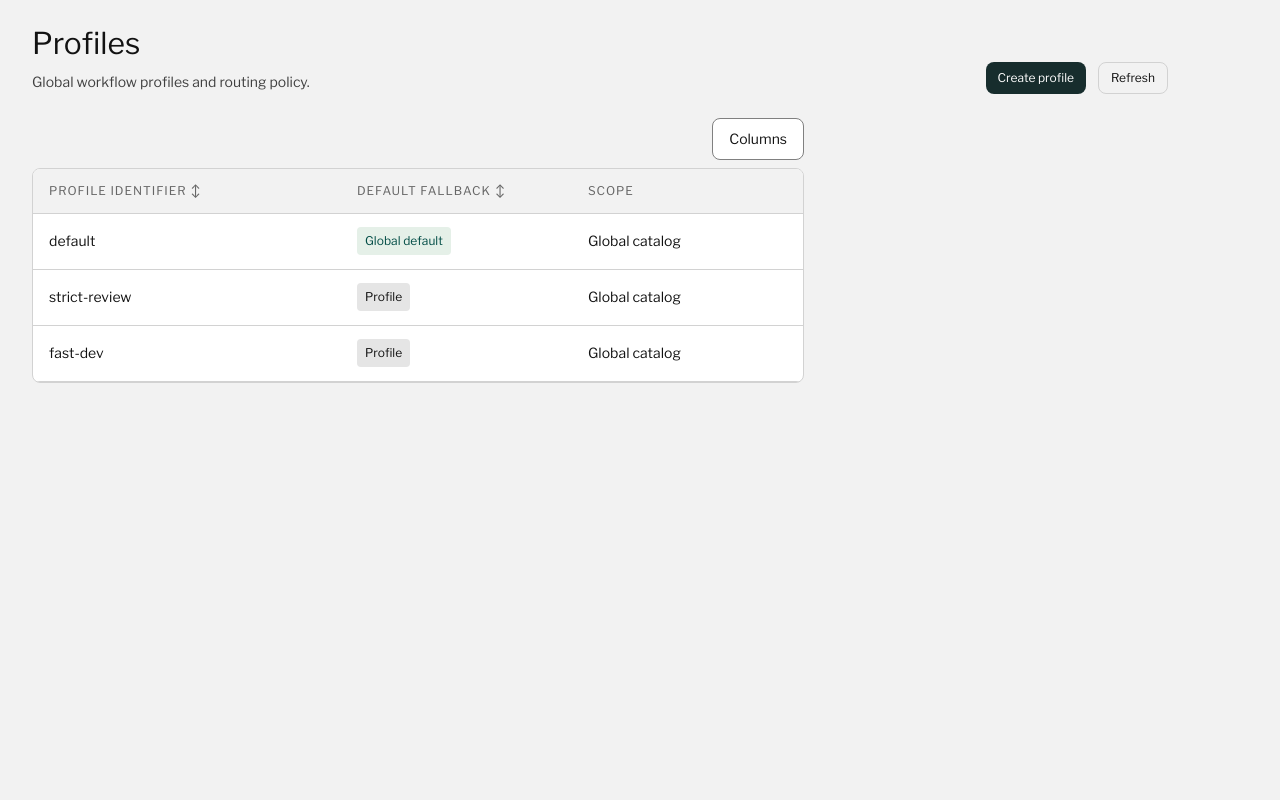
Profiles screen › validates that declared workflows have at least one target before submitting
Expected: the text "default" is shown, x1=49 y1=232 x2=95 y2=249
Click the button "Create profile" at x=1036, y=78, box x1=986 y1=62 x2=1086 y2=94
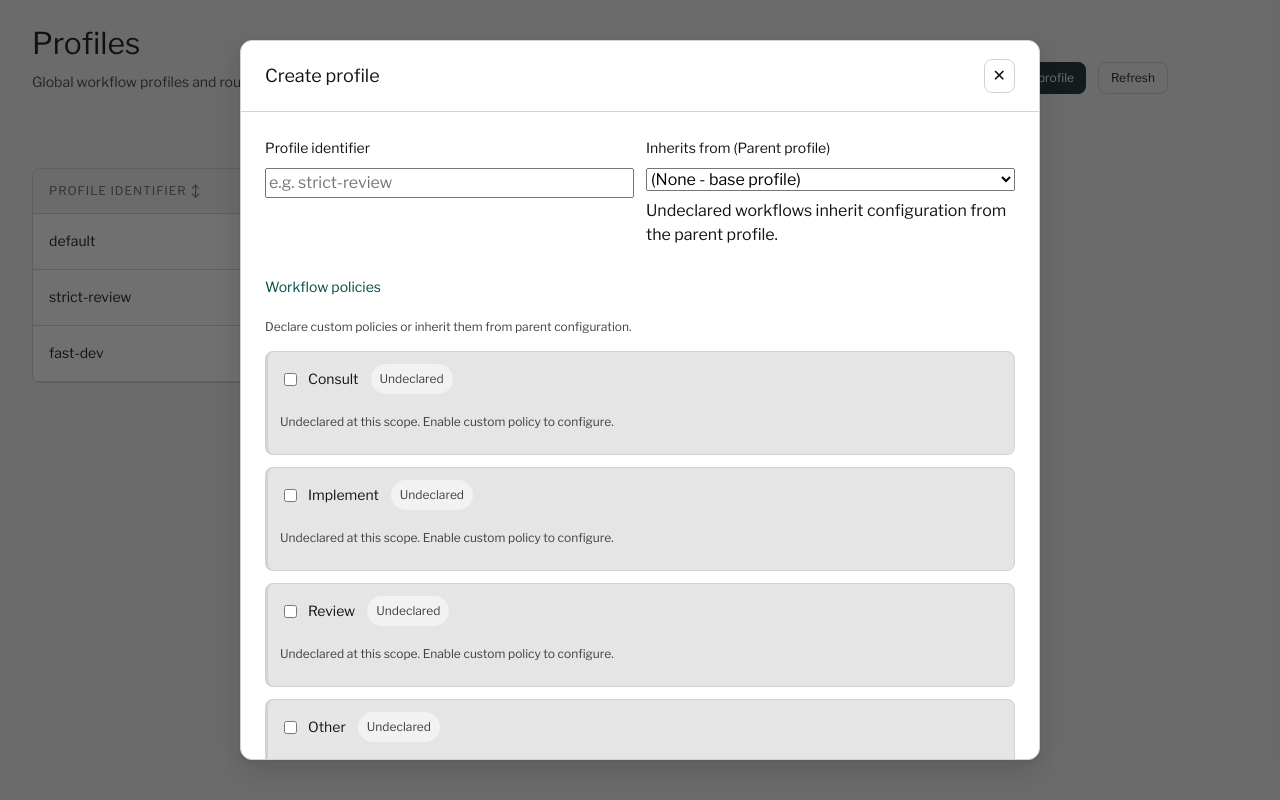
Expected: the dialog "Create profile" is shown, x1=240 y1=40 x2=1040 y2=760
Type "invalid-profile" into the field labelled "Profile identifier" at x=450, y=183, box x1=265 y1=168 x2=634 y2=198
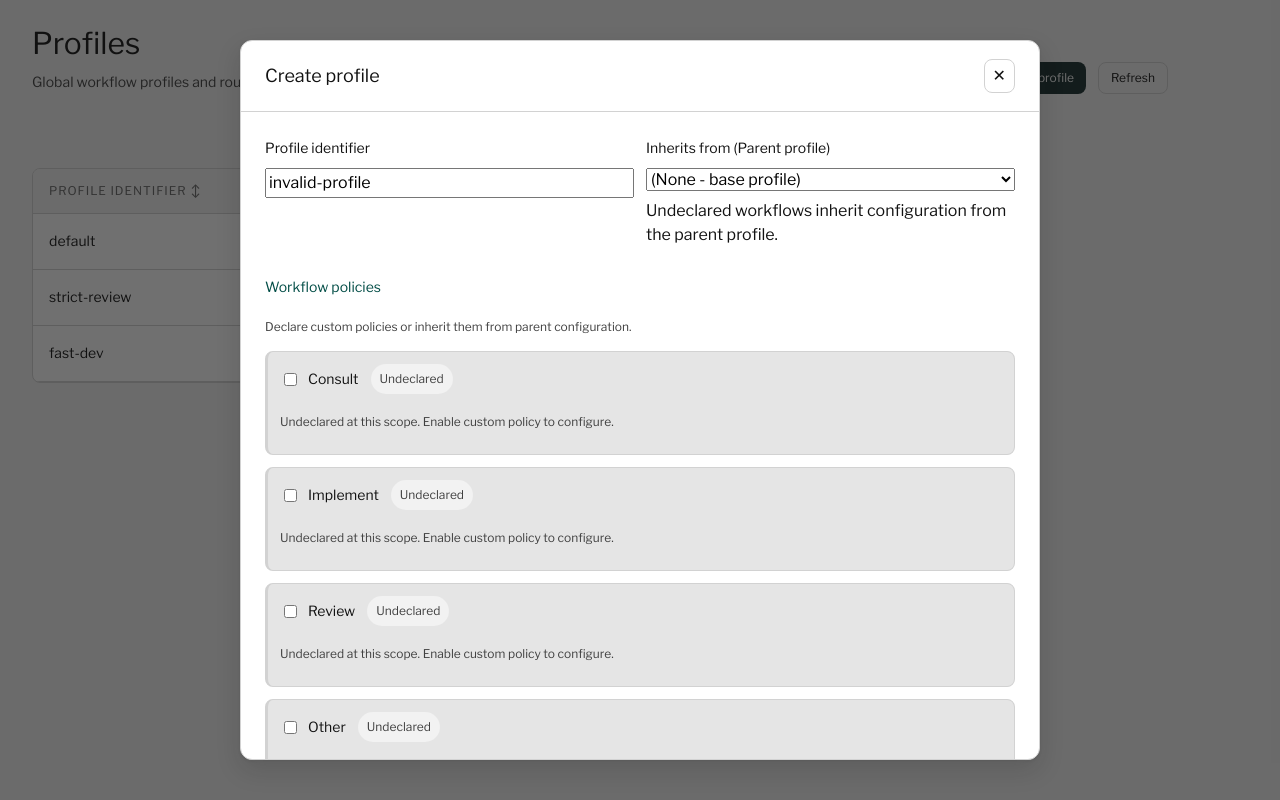
# Declare review workflow
Click the checkbox named "Declare custom policy for review workflow" at x=290, y=611, box x1=284 y1=604 x2=297 y2=618
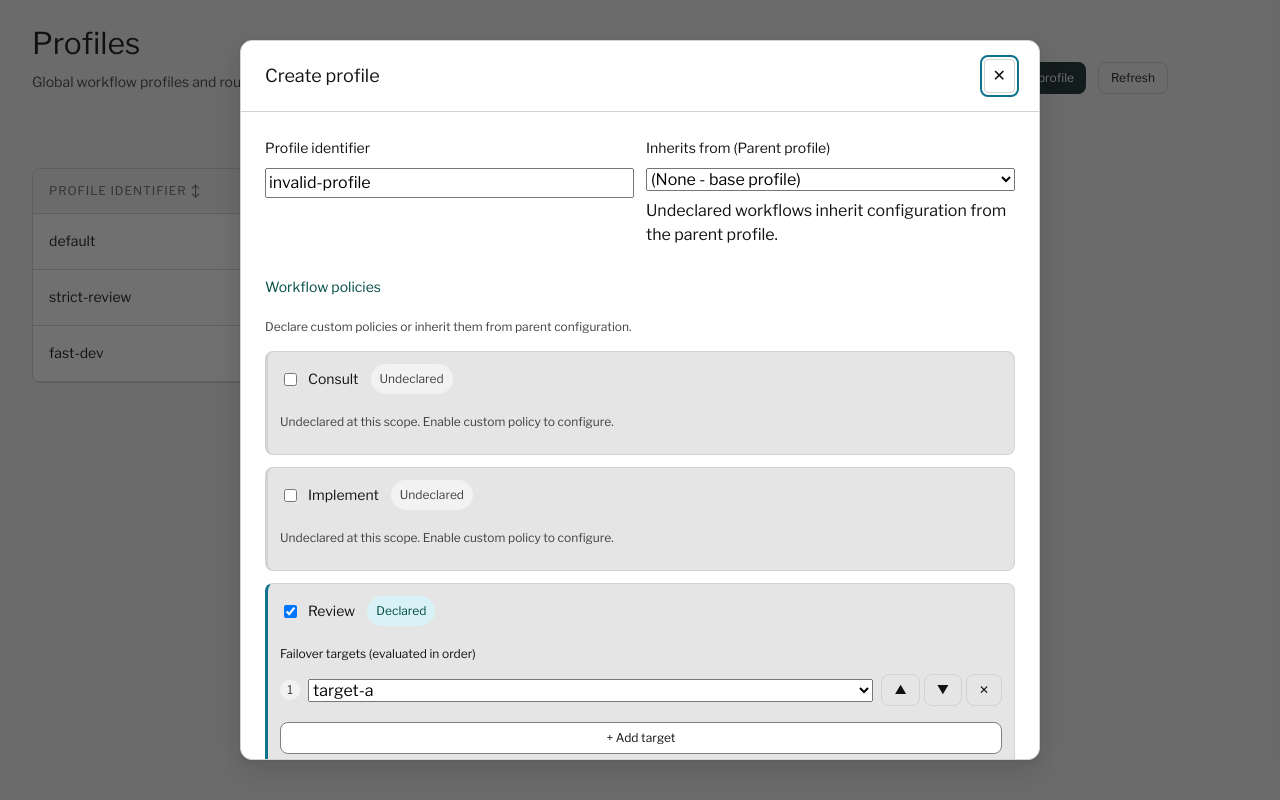
# Remove the target
Click the button named "Remove review target 1" at x=984, y=690, box x1=966 y1=674 x2=1002 y2=706
(page scrolled)
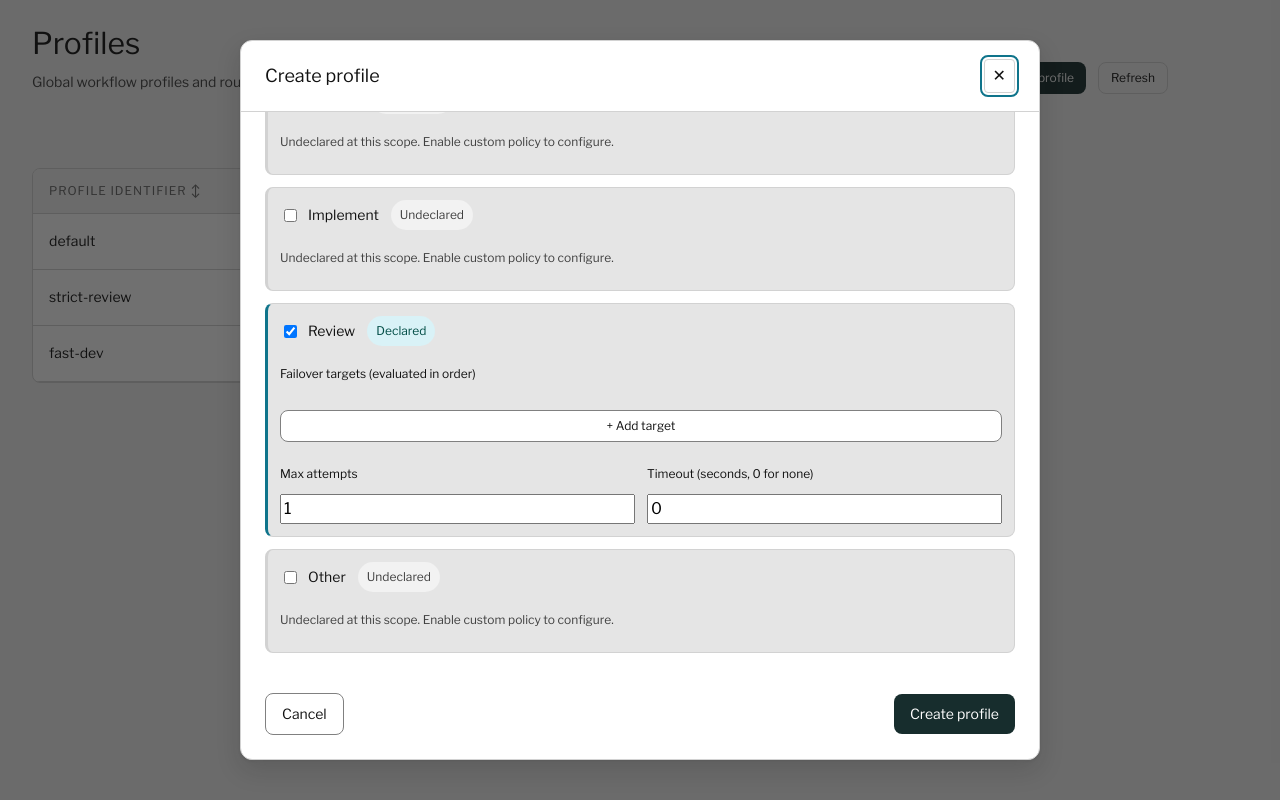
Click the button "Create profile" at x=954, y=714, box x1=894 y1=694 x2=1015 y2=734
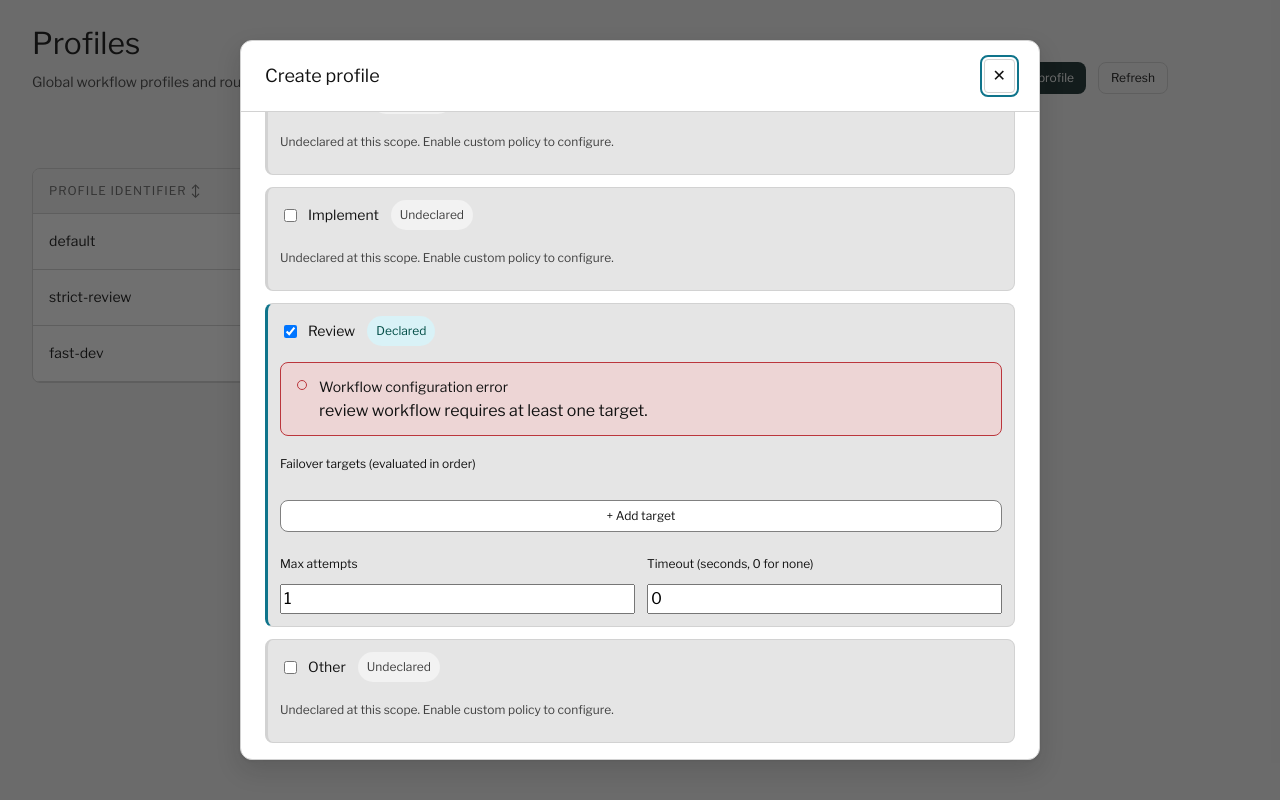
Expected: the text "review workflow requires at least one target." is shown, x1=319 y1=399 x2=648 y2=423
